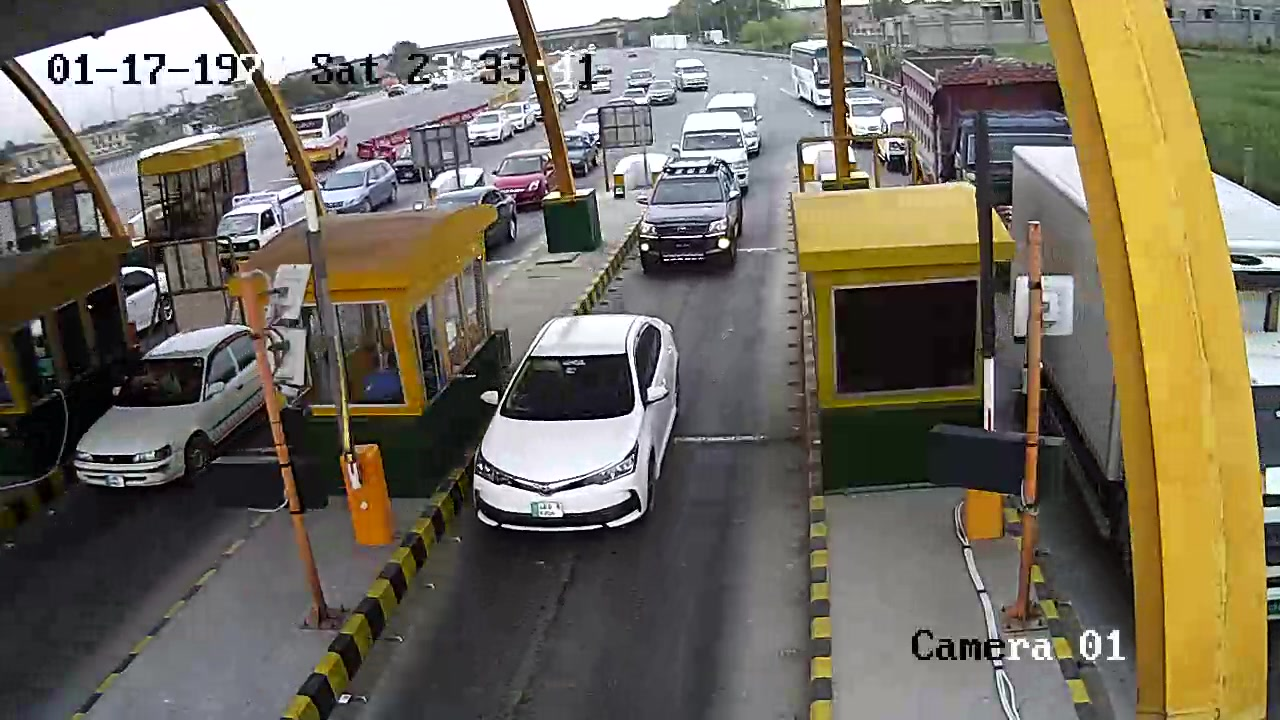F1: (463, 311, 690, 541)
